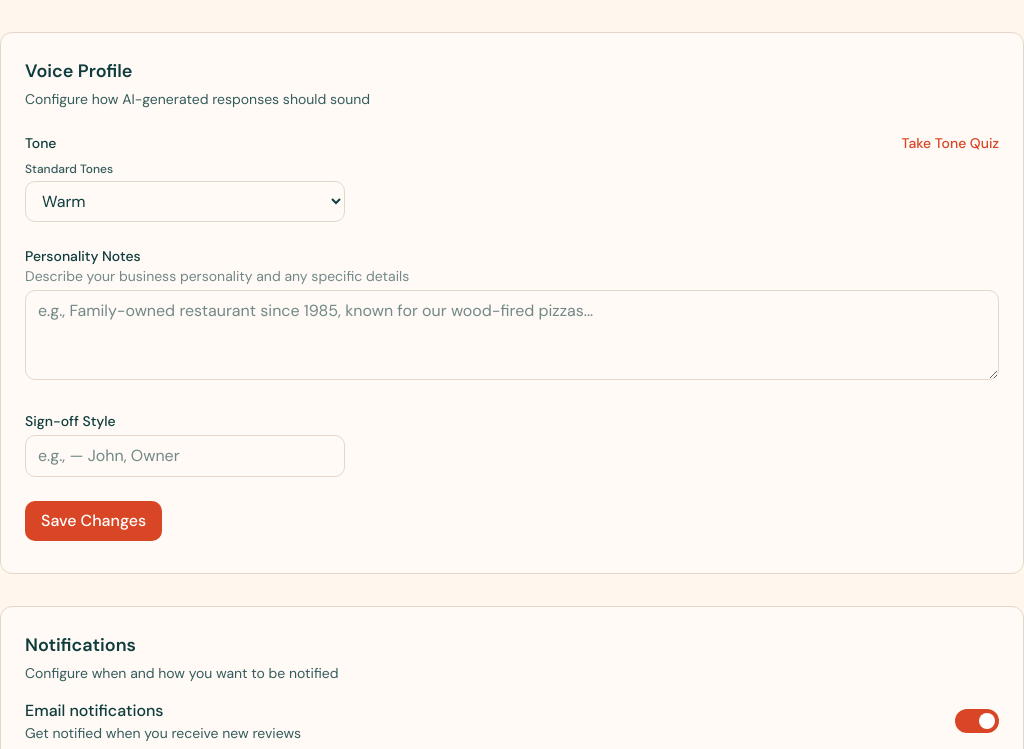
it: app/(dashboard)/settings/settings-client › Voice profile validation › shows error when personality notes are empty
(page scrolled)
Click the button "Save Changes": (94, 521) [25,501,162,541]
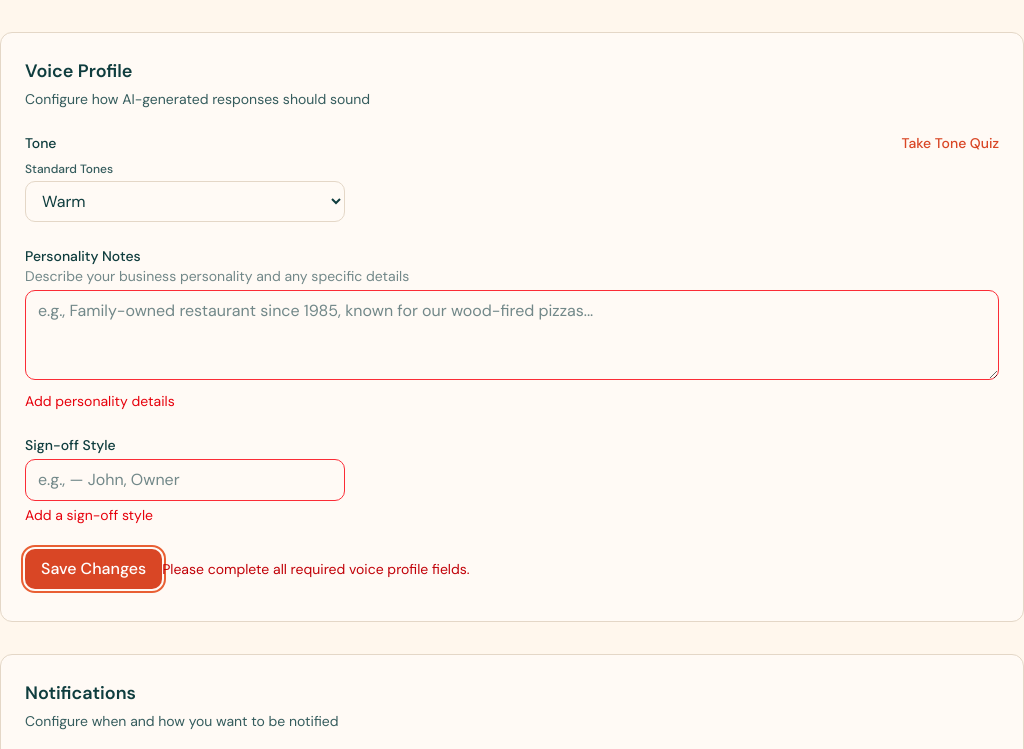
Result: the text "Add personality details" is shown at [25,392,175,410]
